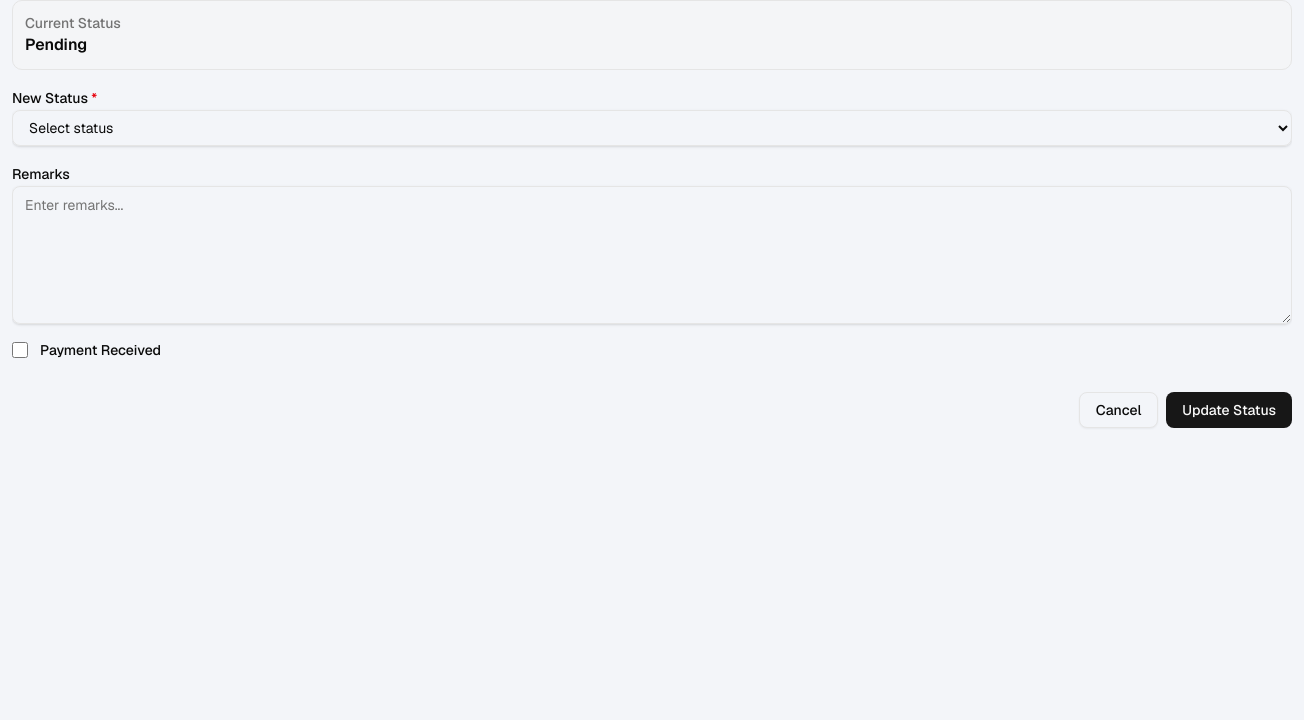
Test: StatusUpdateForm › renders reason dropdown when status is selected
Select "To Follow" in the dropdown labelled "New Status *". click: (652, 128)
box: [12,110,1292,146]
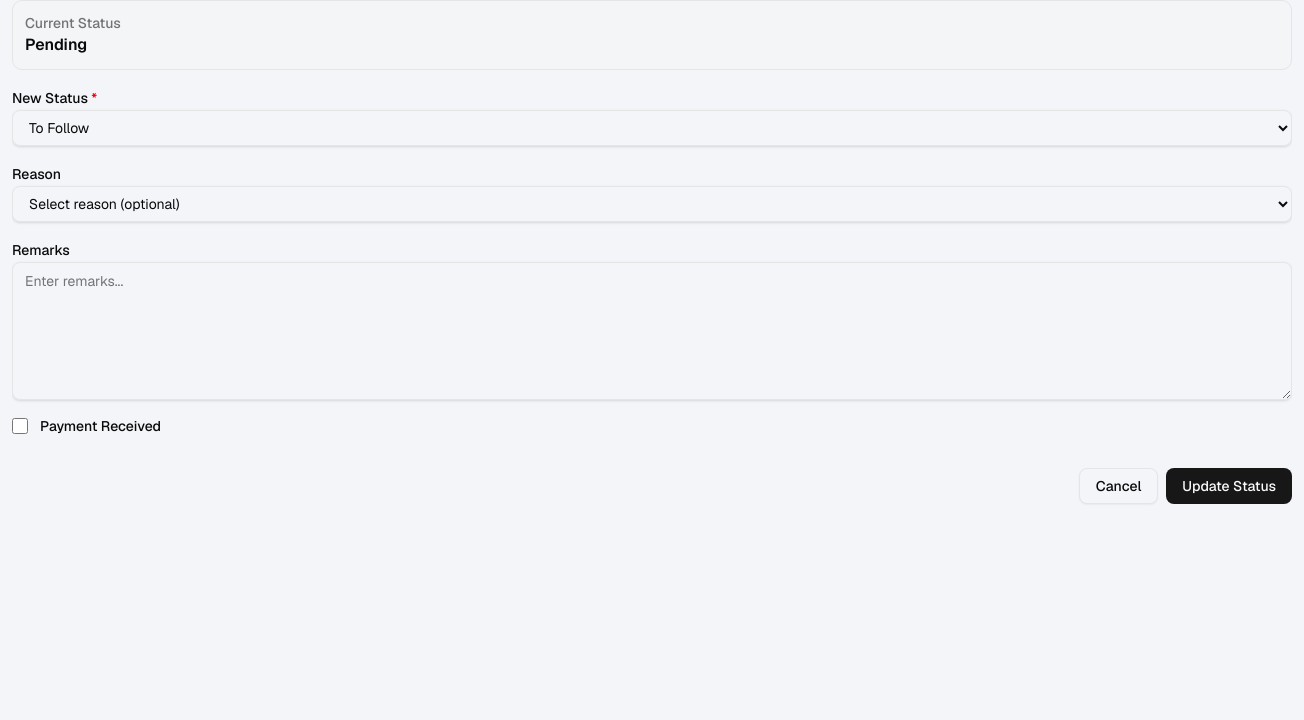
Check: the dropdown labelled "Reason" is shown, box [12,186,1292,222]
